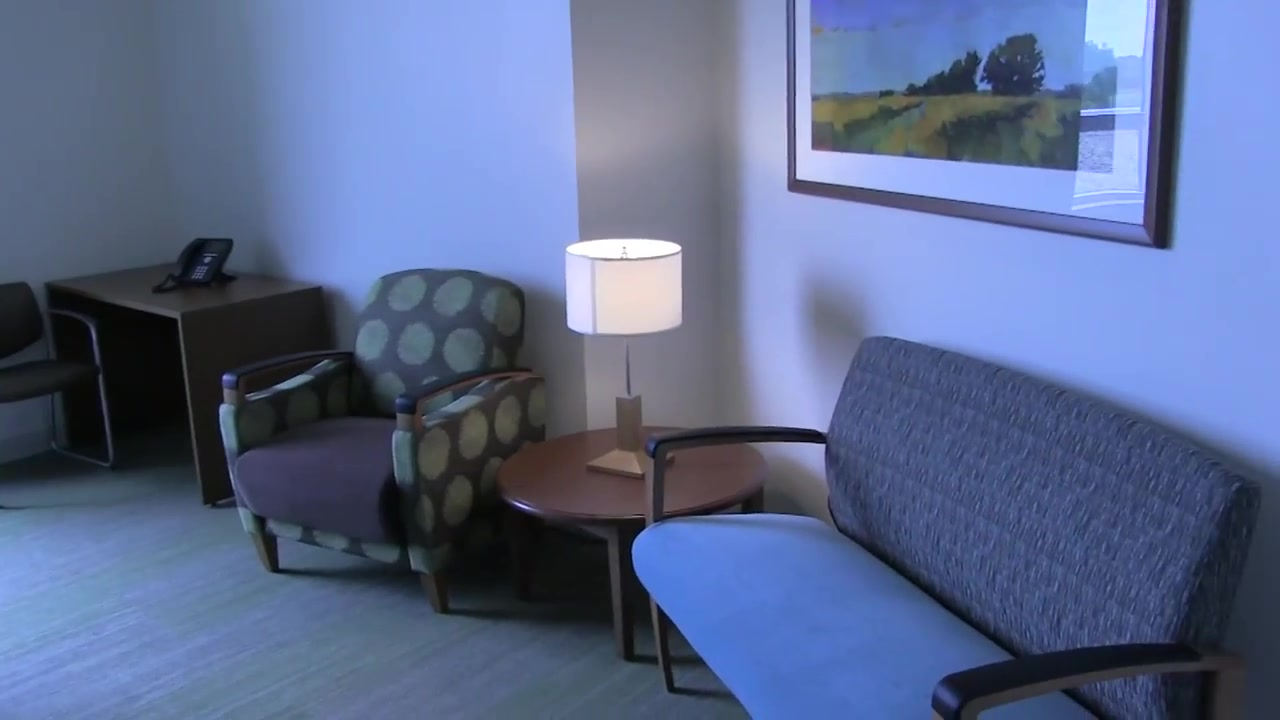chair: (1, 283, 114, 474)
sofa: (631, 336, 1263, 720), (199, 267, 552, 613)
table: (41, 262, 326, 508), (491, 425, 772, 660)
telephone: (171, 236, 236, 287)
